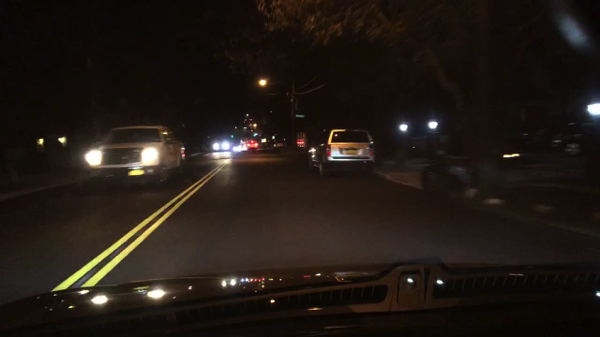car: (522, 110, 599, 157), (308, 126, 377, 175), (212, 137, 230, 151), (244, 139, 259, 148)
traffic light: (230, 131, 233, 138), (253, 132, 257, 137)
traffic sign: (294, 112, 304, 118)
truck: (84, 123, 184, 187)
